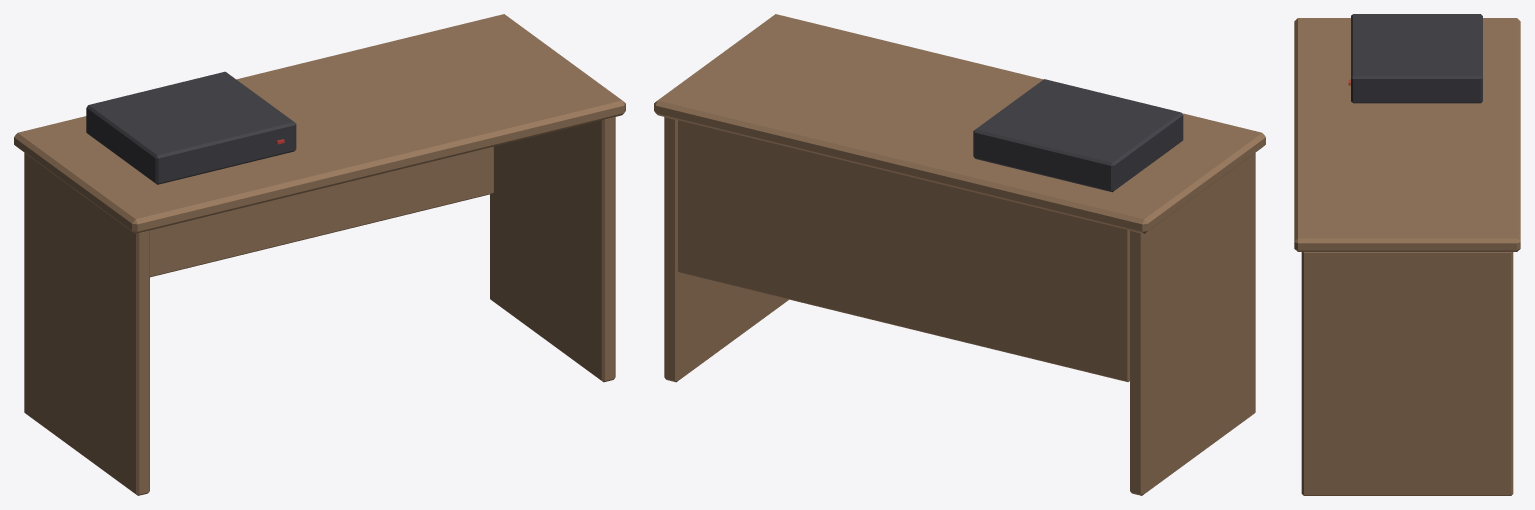
The model's file is security_desk.fbx.
The picture shows the model from 3 angles, left to right: view 1: azimuth 30°, elevation 25°; view 2: azimuth 150°, elevation 25°; view 3: azimuth 270°, elevation 25°; orthographic projection. The views are drawn at different scales.
Parts seen in each view (by area): view 1: Desk; view 2: Desk; view 3: Desk.
Part boxes in pixels (x1=…): Desk: x1=14, y1=14, x2=625, y2=495; Desk: x1=654, y1=14, x2=1265, y2=495; Desk: x1=1294, y1=14, x2=1520, y2=495.
Size of the model in its own units: 1.4 by 0.84 by 0.6.
